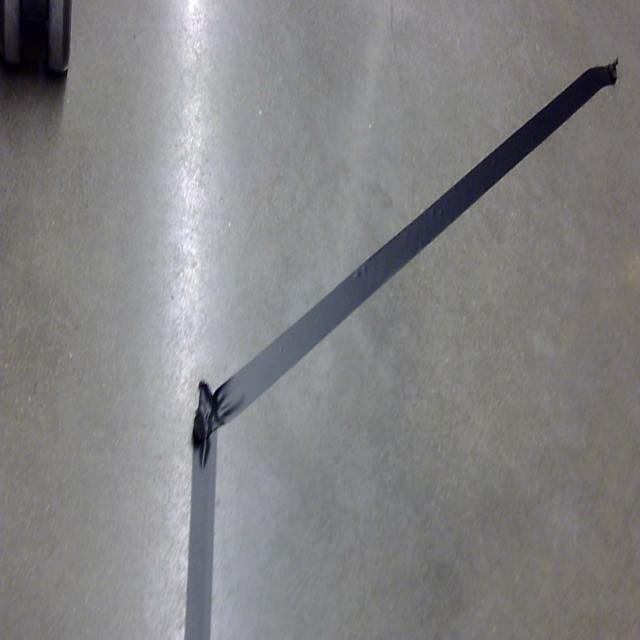tape: (156, 41, 626, 640)
